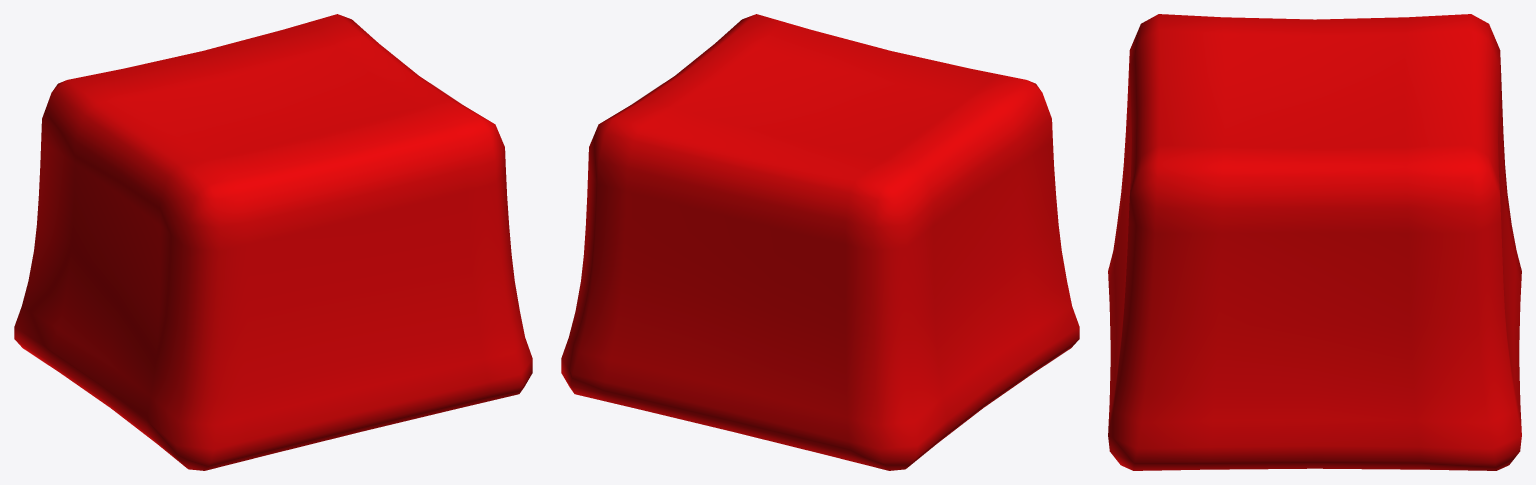
Rendered from Fatslime.fbx.
3 views of the same model, side by side, from view 1: azimuth 30°, elevation 25°; view 2: azimuth 150°, elevation 25°; view 3: azimuth 270°, elevation 25° (orthographic). The views are drawn at different scales.
Visible parts, largest first — view 1: slime; view 2: slime; view 3: slime.
Part boxes in pixels (<box>): slime: <box>14,14,532,470</box>; slime: <box>561,14,1079,470</box>; slime: <box>1108,14,1521,470</box>.
Bounding box in the file's own units: 1.22 × 0.9015 × 1.12.
